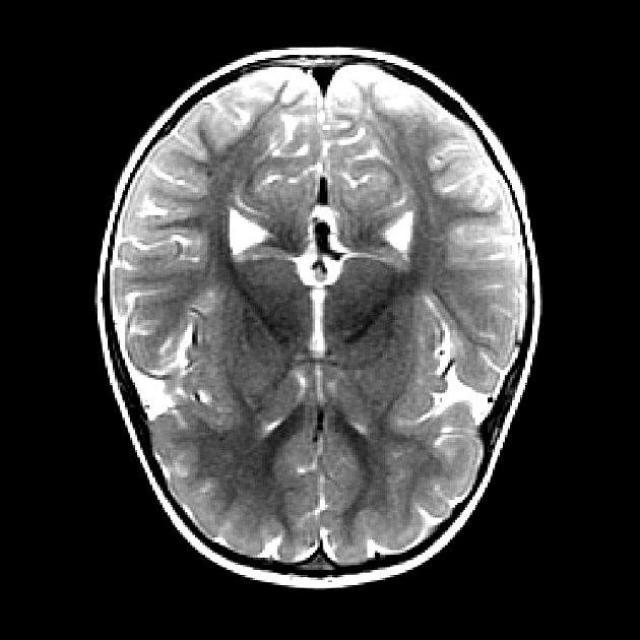notumor: (98, 49, 538, 586), (99, 50, 539, 586)
